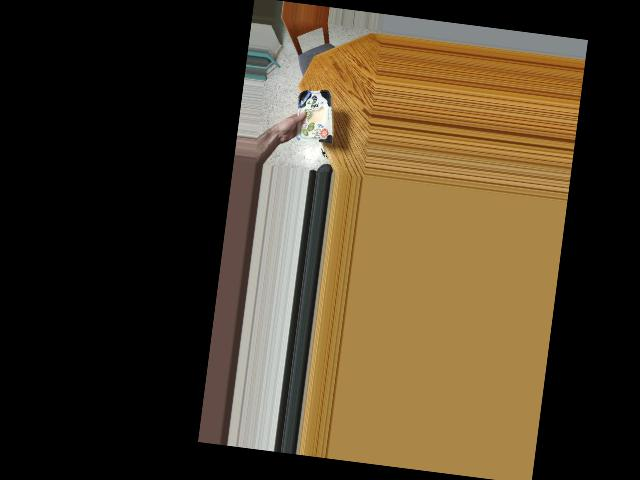cheese: (287, 86, 338, 145)
